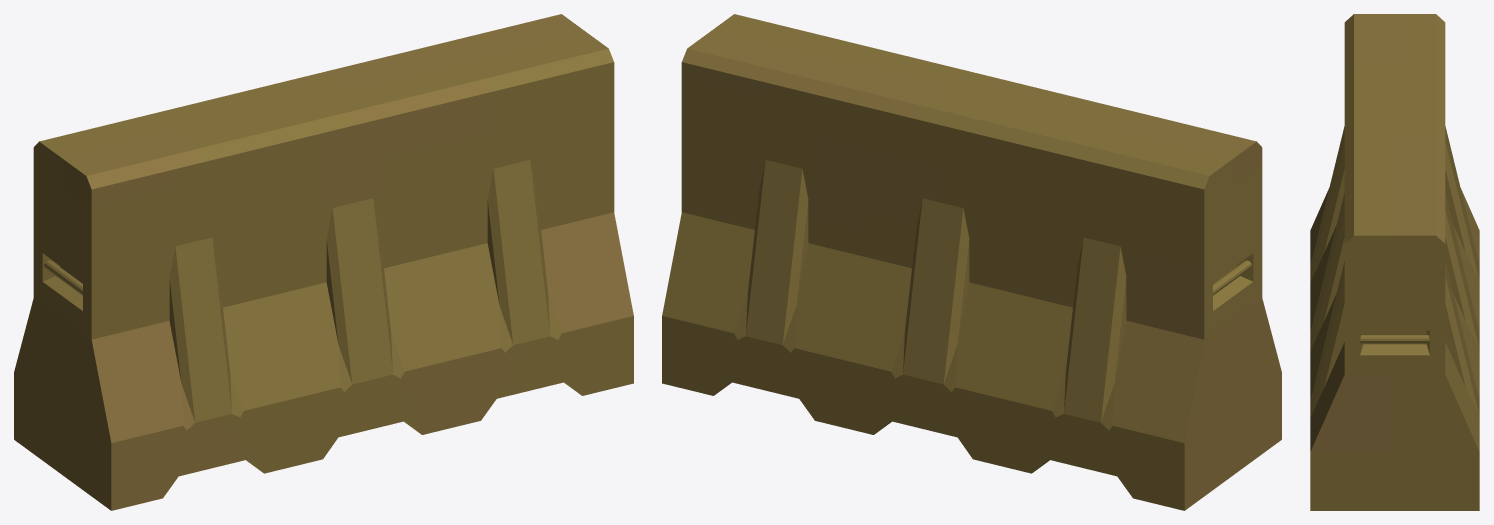
File: plasticbarrier.glb
The picture shows the model from 3 angles, left to right: view 1: azimuth 30°, elevation 25°; view 2: azimuth 150°, elevation 25°; view 3: azimuth 270°, elevation 25°; orthographic projection. The views are drawn at different scales.
Parts seen in each view (by area): view 1: PlasticBarrier; view 2: PlasticBarrier; view 3: PlasticBarrier.
Boxes of the visible parts, <box> form: PlasticBarrier: <box>14,14,633,510</box>; PlasticBarrier: <box>662,14,1281,510</box>; PlasticBarrier: <box>1310,14,1479,510</box>.
Size of the model in its own units: 1.04 by 0.5995 by 0.3339.
